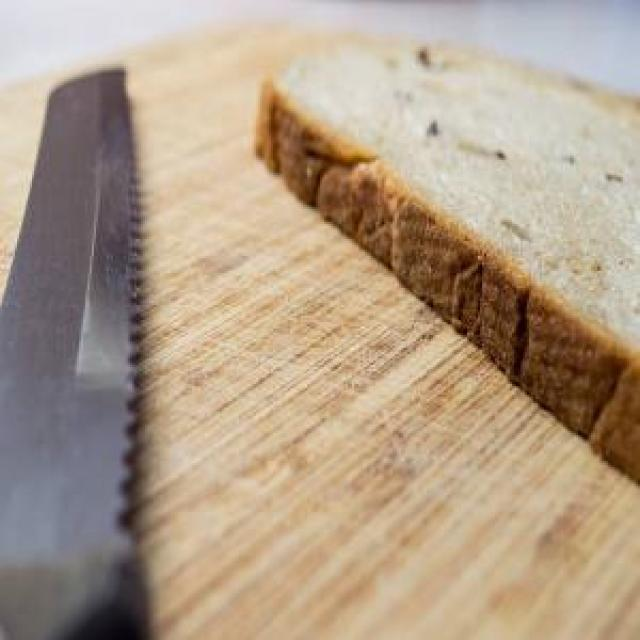knife: (0, 62, 145, 638)
